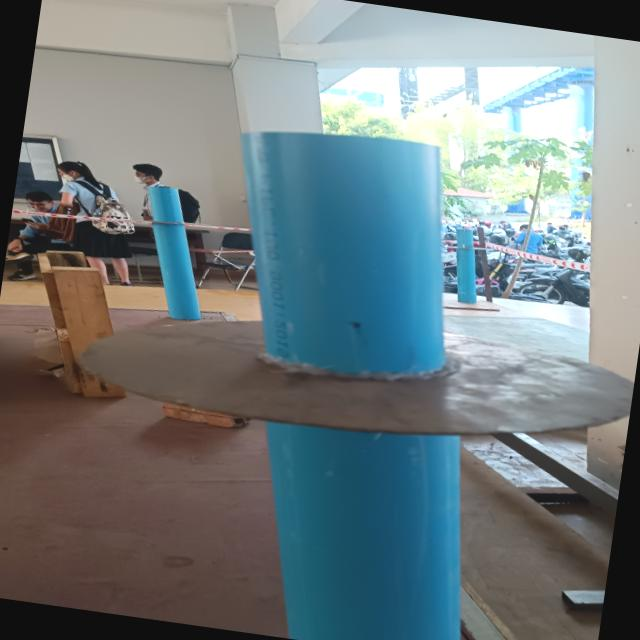pole: (44, 91, 640, 640)
